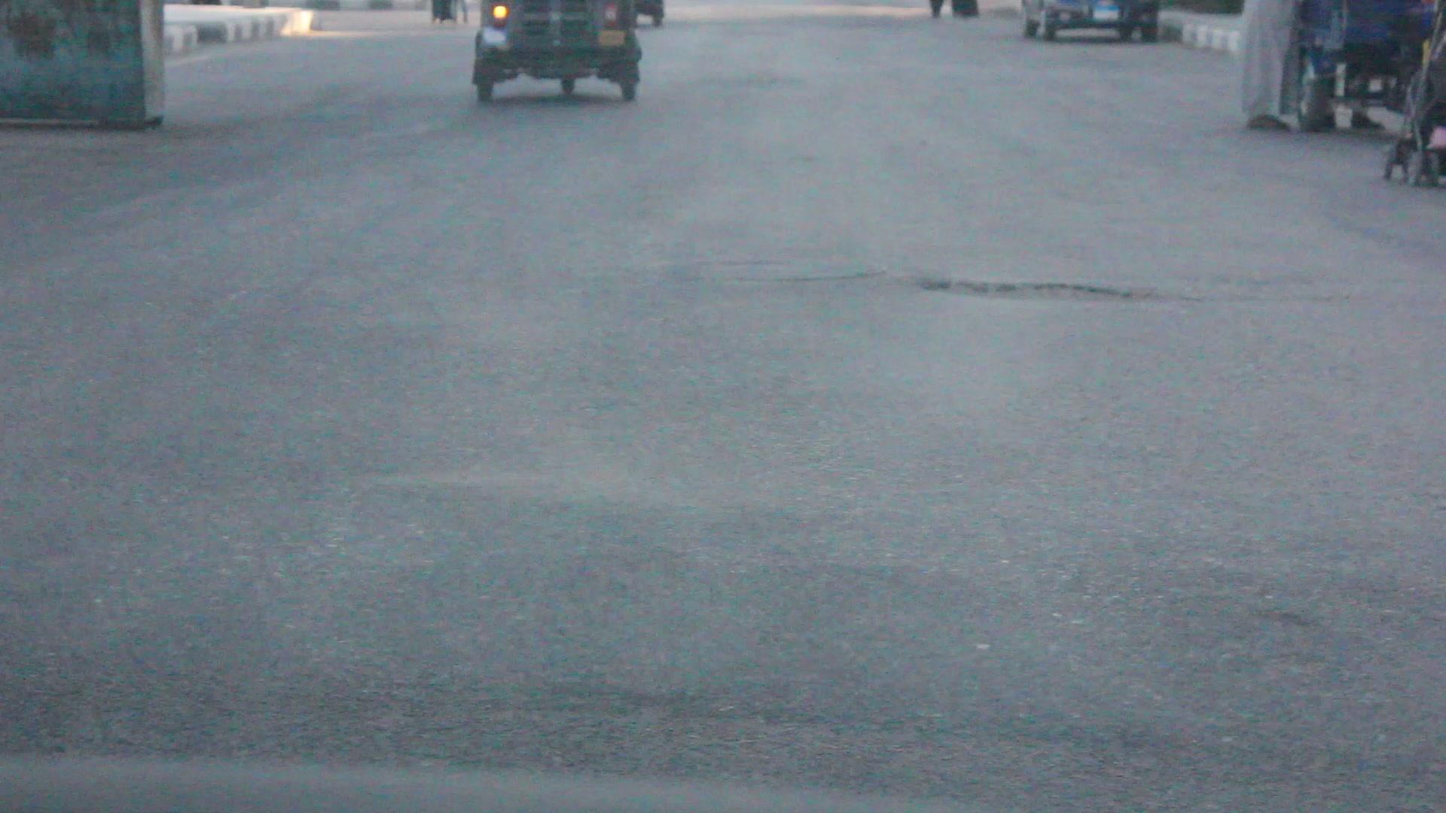Bump: (0, 438, 1438, 802)
Pothole: (909, 254, 1245, 322)
